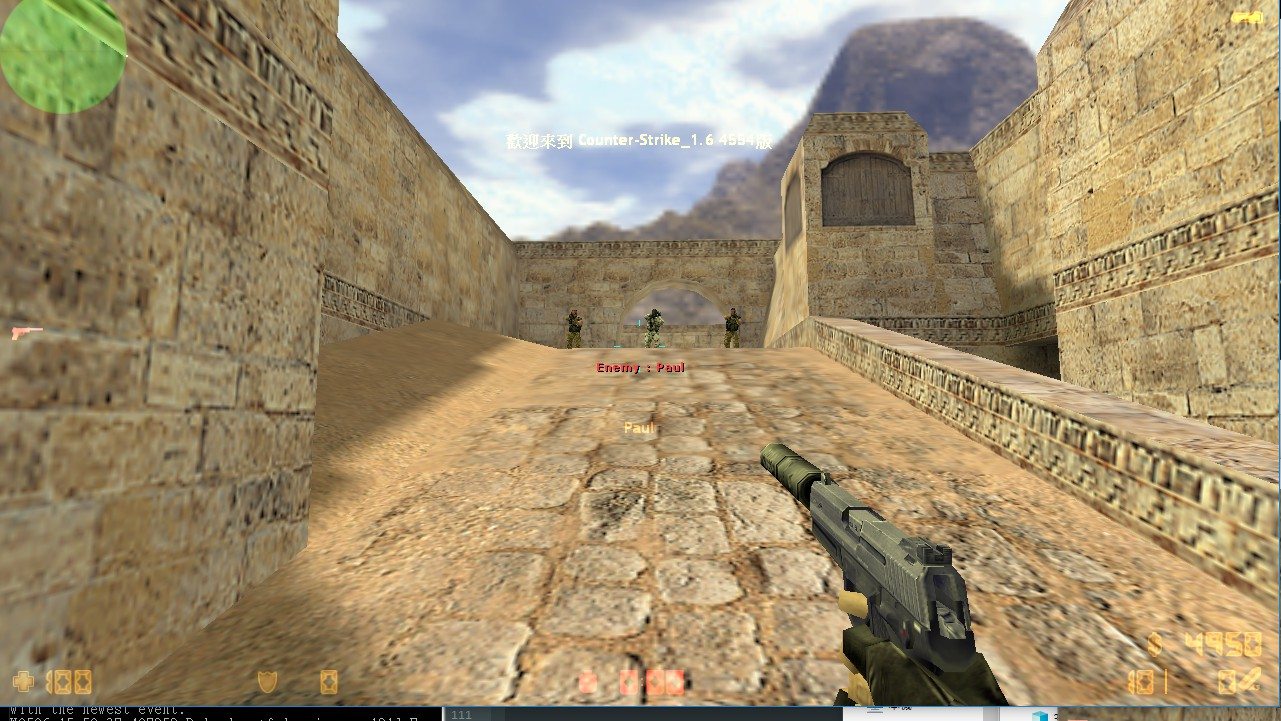person: (721, 304, 741, 347), (643, 306, 663, 348), (564, 308, 581, 348)
